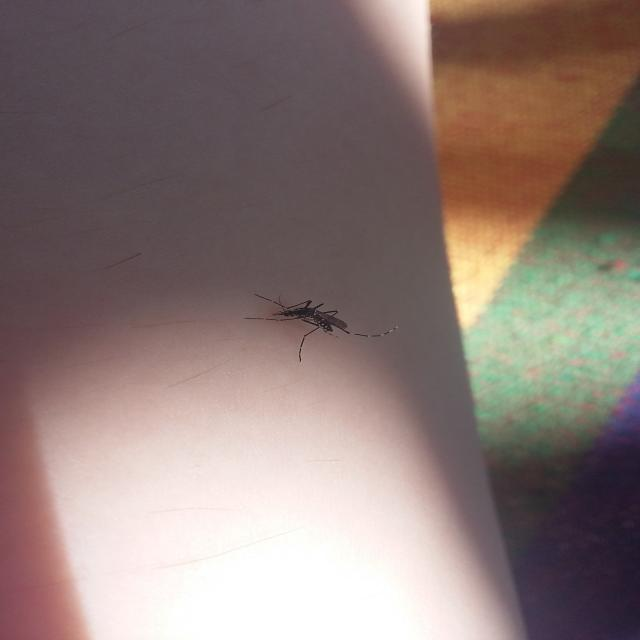albopictus: (244, 286, 401, 366)
